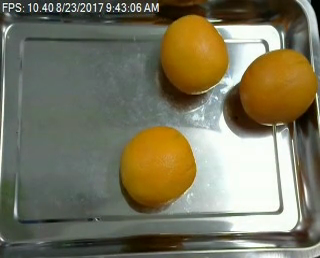Orange: (238, 45, 320, 125), (118, 124, 196, 205), (162, 14, 228, 92)
